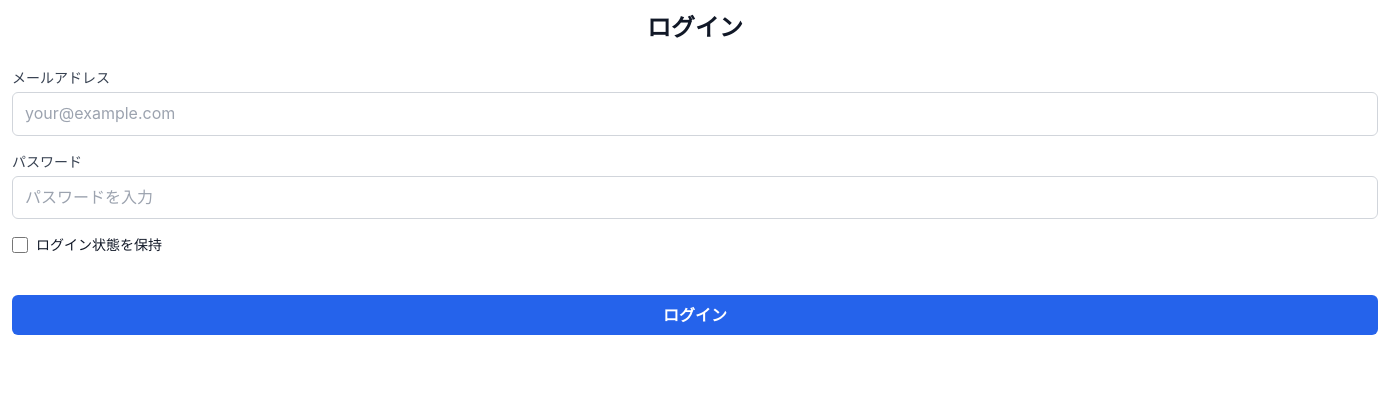
it: AuthForm › 入力フィールドの動作 / Input Field Behavior › エラーが表示された後に入力するとエラーがクリアされる / Error clears when typing after validation error
// バリデーションエラーを発生させる / Trigger validation error
Click the button "ログイン" at (695, 315), box [12,295,1378,335]
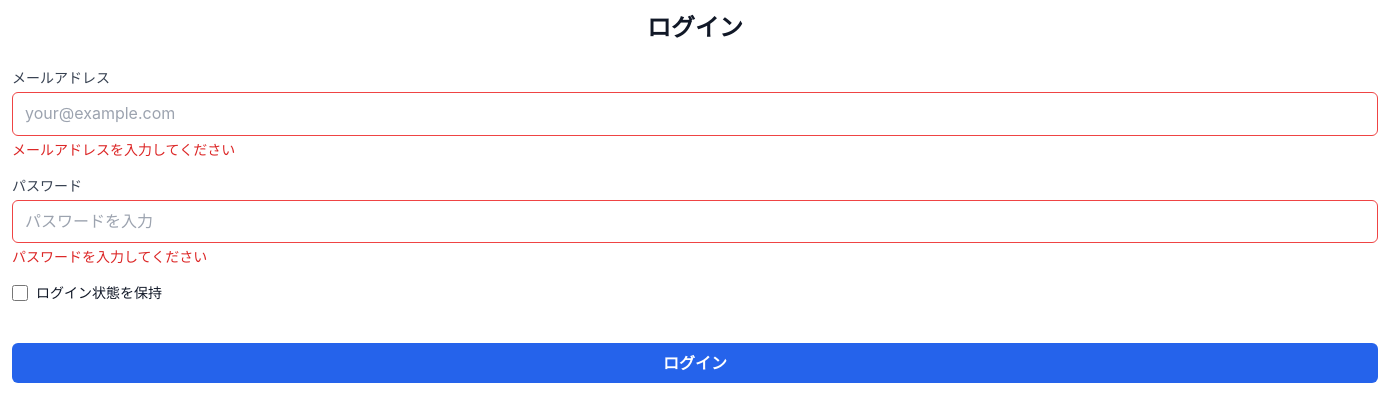
Result: the text "メールアドレスを入力してください" is shown at [12,141,235,158]
// 入力するとエラーがクリアされる / Error clears when typing
Type "test@example.com" into the field labelled "メールアドレス" at (695, 114), box [12,92,1378,136]
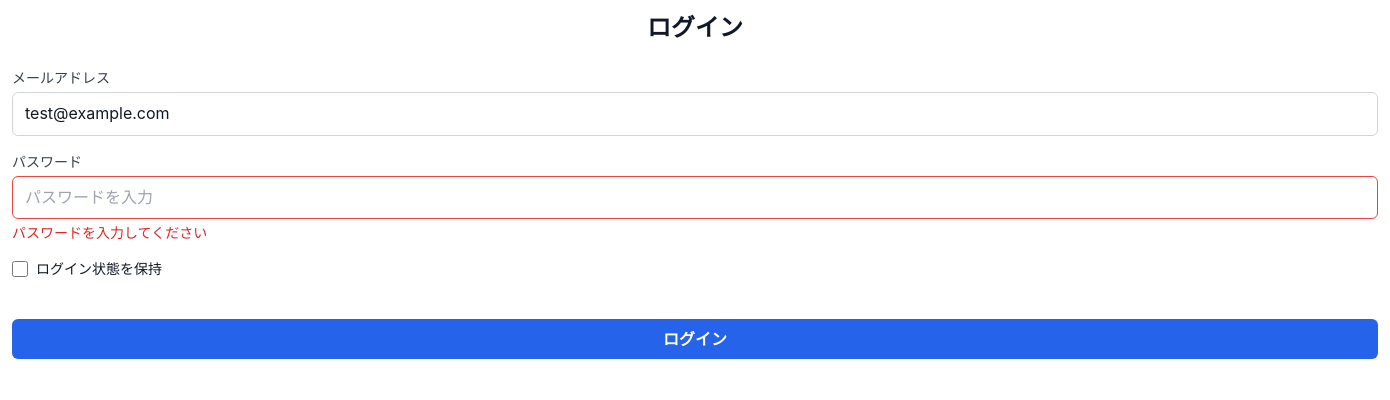
Result: the text "メールアドレスを入力してください" is gone
